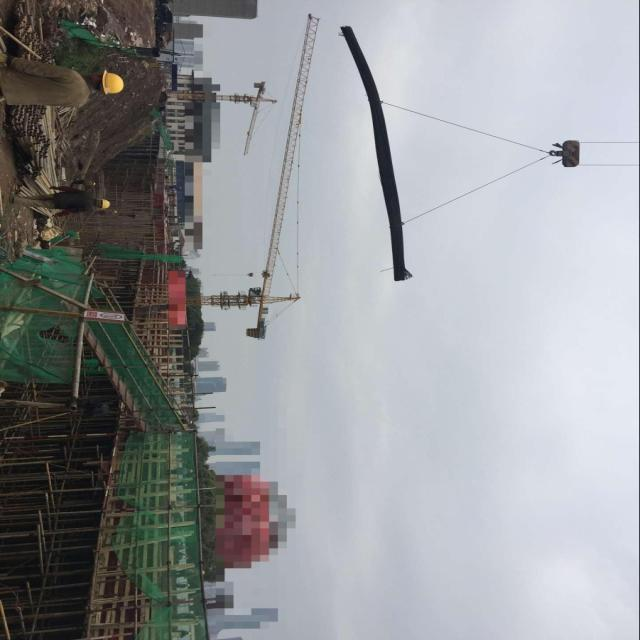crane: (185, 12, 318, 339), (166, 81, 277, 155)
